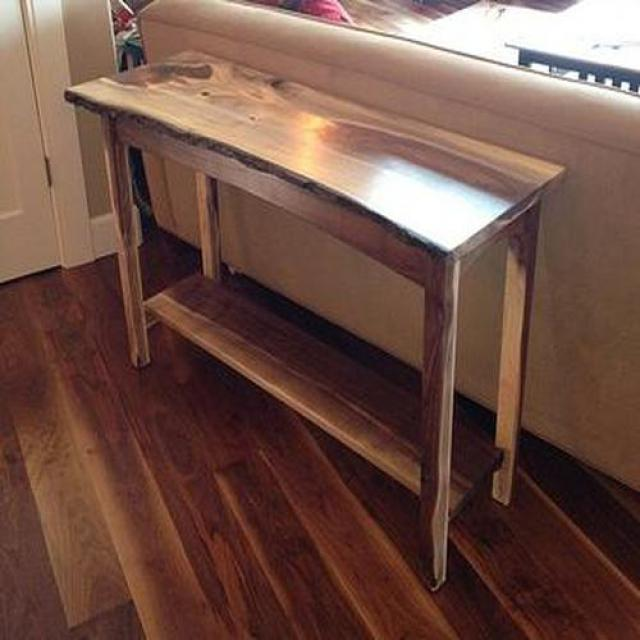table: (63, 52, 566, 594)
